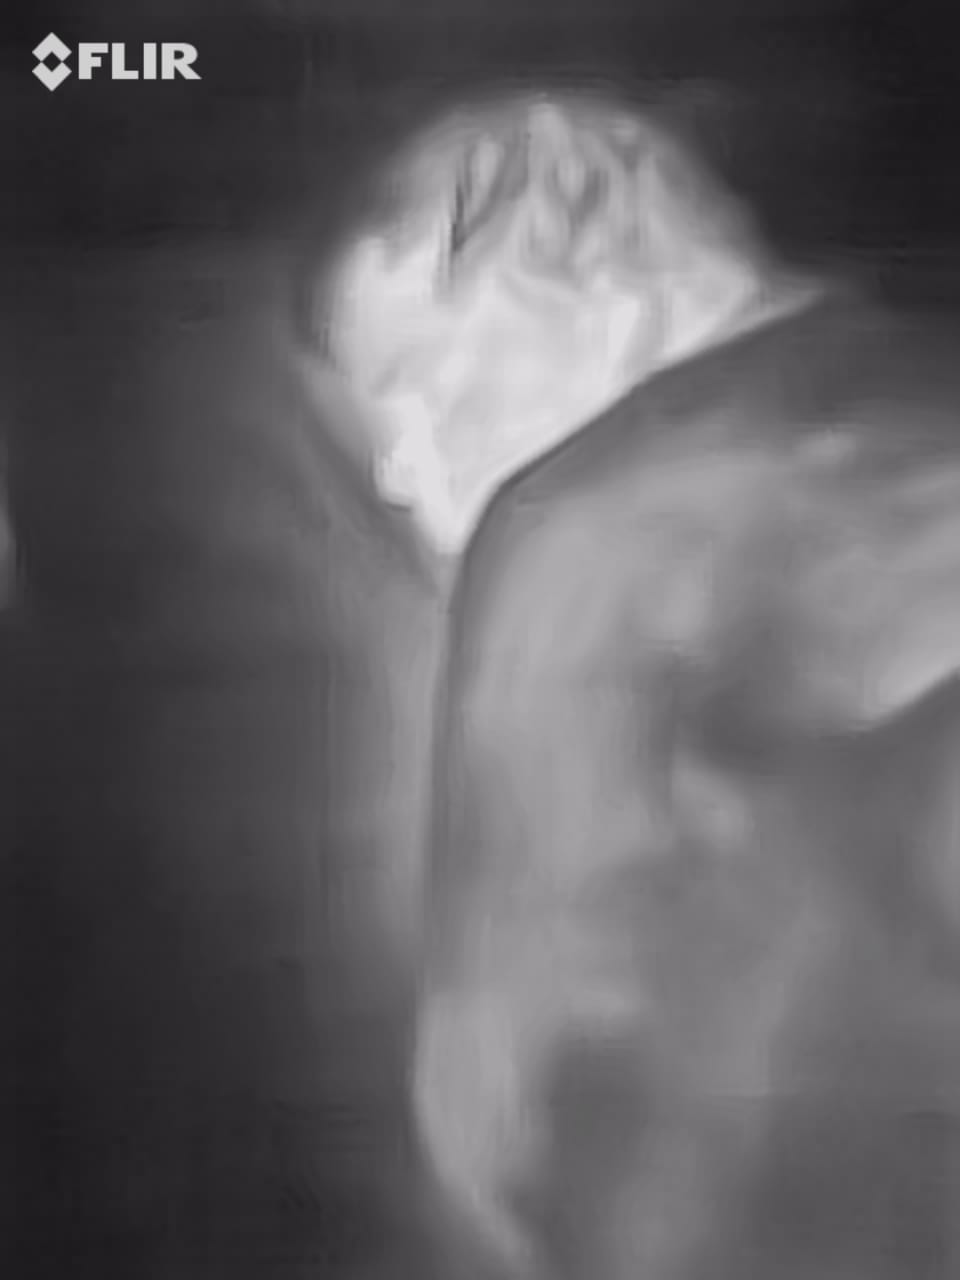head: (279, 76, 761, 554)
